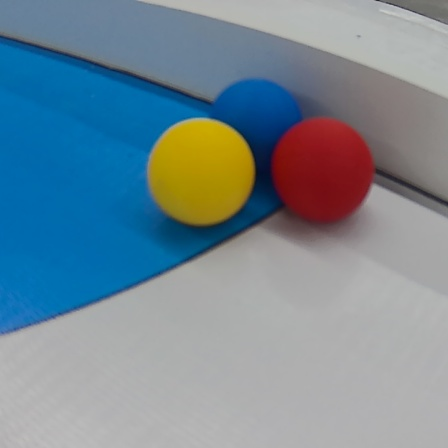blue: (211, 77, 301, 152)
blue_base: (0, 30, 321, 348)
red: (269, 116, 376, 225)
yellow: (149, 119, 255, 227)
